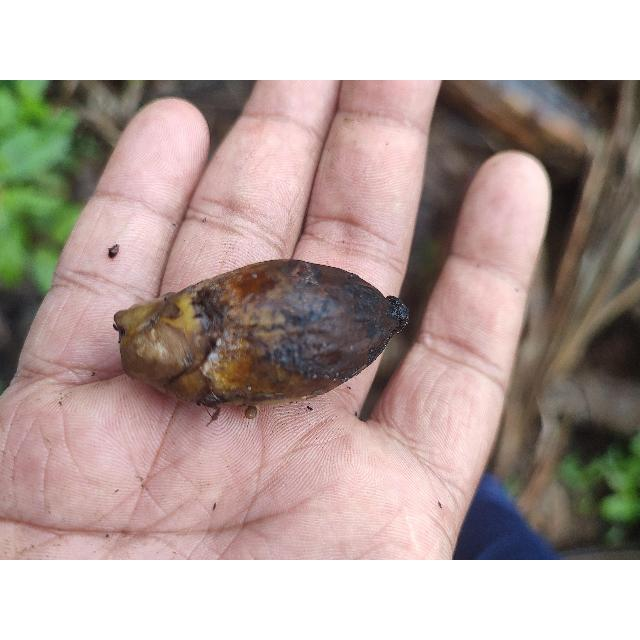damaged: (112, 258, 411, 413)
